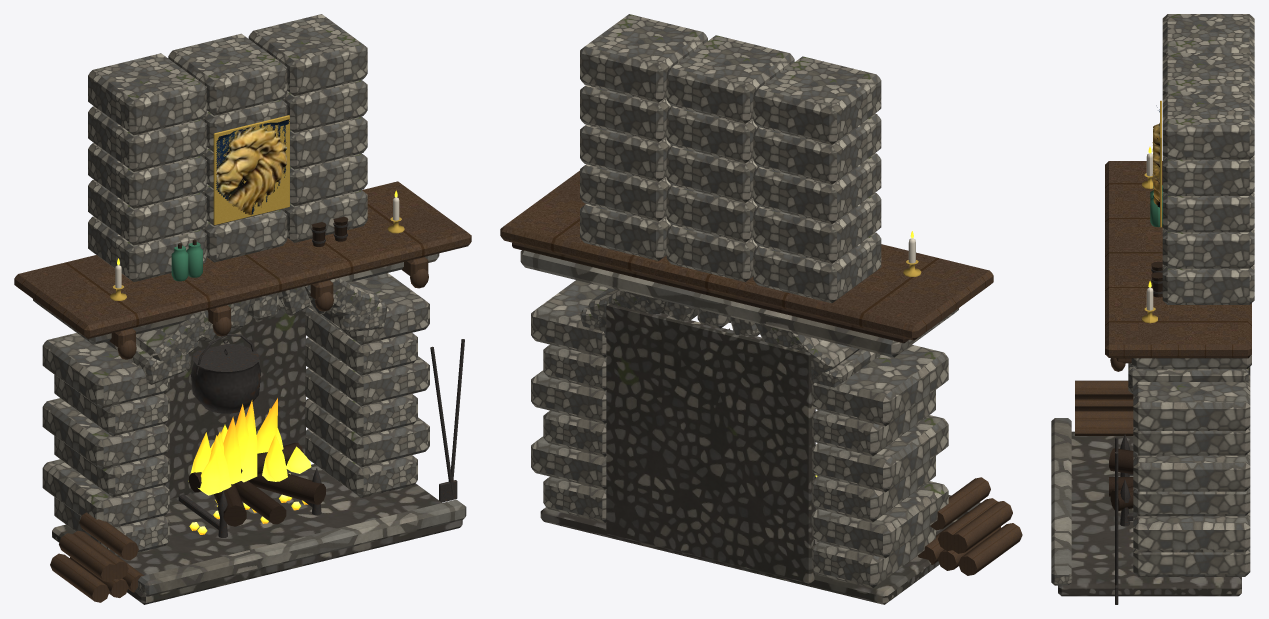
File: hearth.glb
3 renders of one model, left to right at view 1: azimuth 30°, elevation 25°; view 2: azimuth 150°, elevation 25°; view 3: azimuth 270°, elevation 25°, orthographic. The views are drawn at different scales.
Visible parts, largest first — view 1: hearth; view 2: hearth; view 3: hearth.
Boxes of the visible parts, x1,y1,x2,y2 form: hearth: (14,14,471,604); hearth: (500,14,1022,604); hearth: (1051,14,1254,604).
Size of the model in its own units: 2.71 by 2.97 by 1.22.
Materials: 1 (1 with a texture image).
